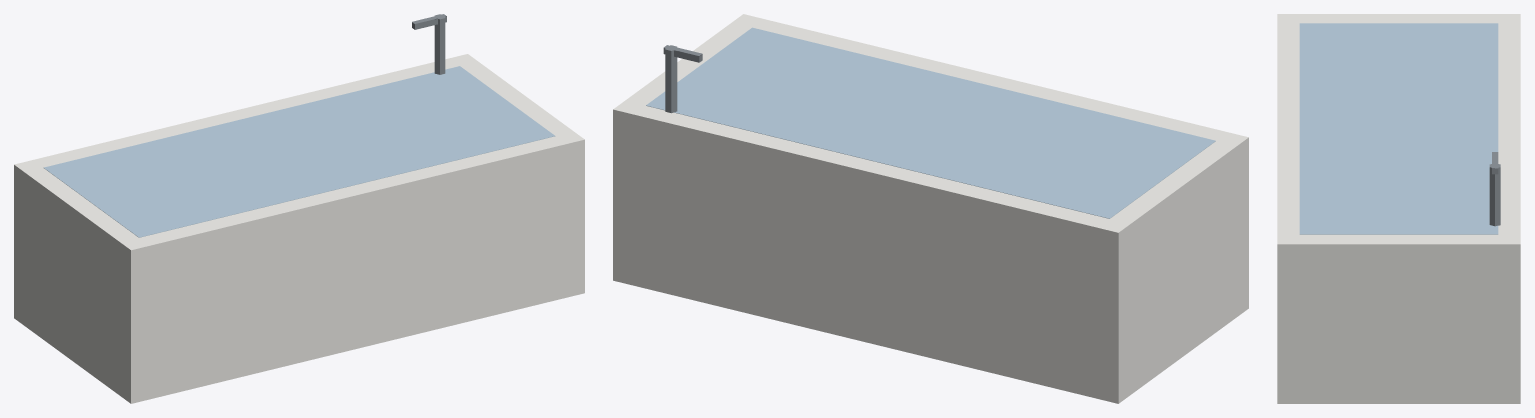
File: Bathtub.glb
The picture shows the model from 3 angles, left to right: view 1: azimuth 30°, elevation 25°; view 2: azimuth 150°, elevation 25°; view 3: azimuth 270°, elevation 25°; orthographic projection. The views are drawn at different scales.
Visible parts, largest first — view 1: Bathtub; view 2: Bathtub; view 3: Bathtub.
Part boxes in pixels (x1,y1,x2,y2): Bathtub: [14, 14, 584, 403]; Bathtub: [613, 14, 1248, 403]; Bathtub: [1277, 14, 1520, 403].
Bounding box in the file's own units: 1.7 × 0.7512 × 0.76.
1 material, 1 textured.
